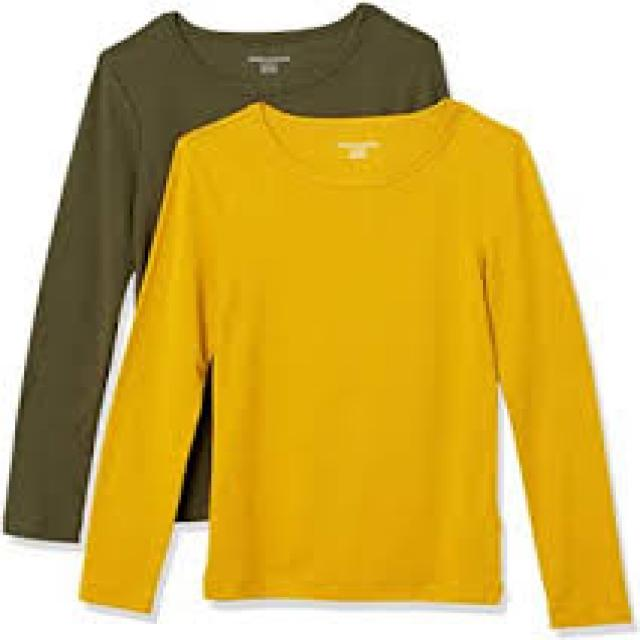plain: (65, 93, 637, 622)
